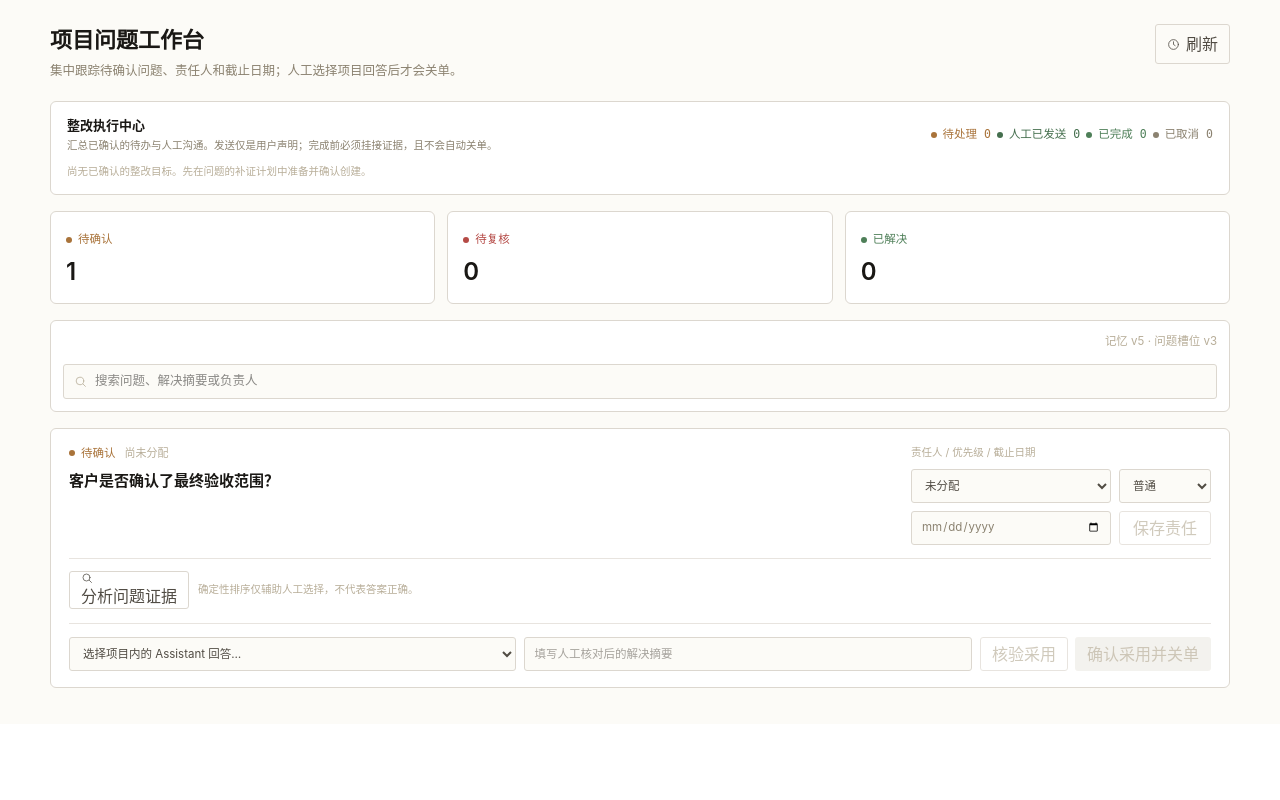
Test: project question workbench › requires a frozen answer-adoption review before resolving
Expected: the heading "客户是否确认了最终验收范围？" is shown, [69,471,279,490]
Expected: the button "确认采用并关单" is disabled, [1075,636,1211,670]
Select "[验收讨论] 客户已经书面确认最终验收范围。" in the dropdown named "选择解决问题的回答" at (293, 654), box [69,636,516,670]
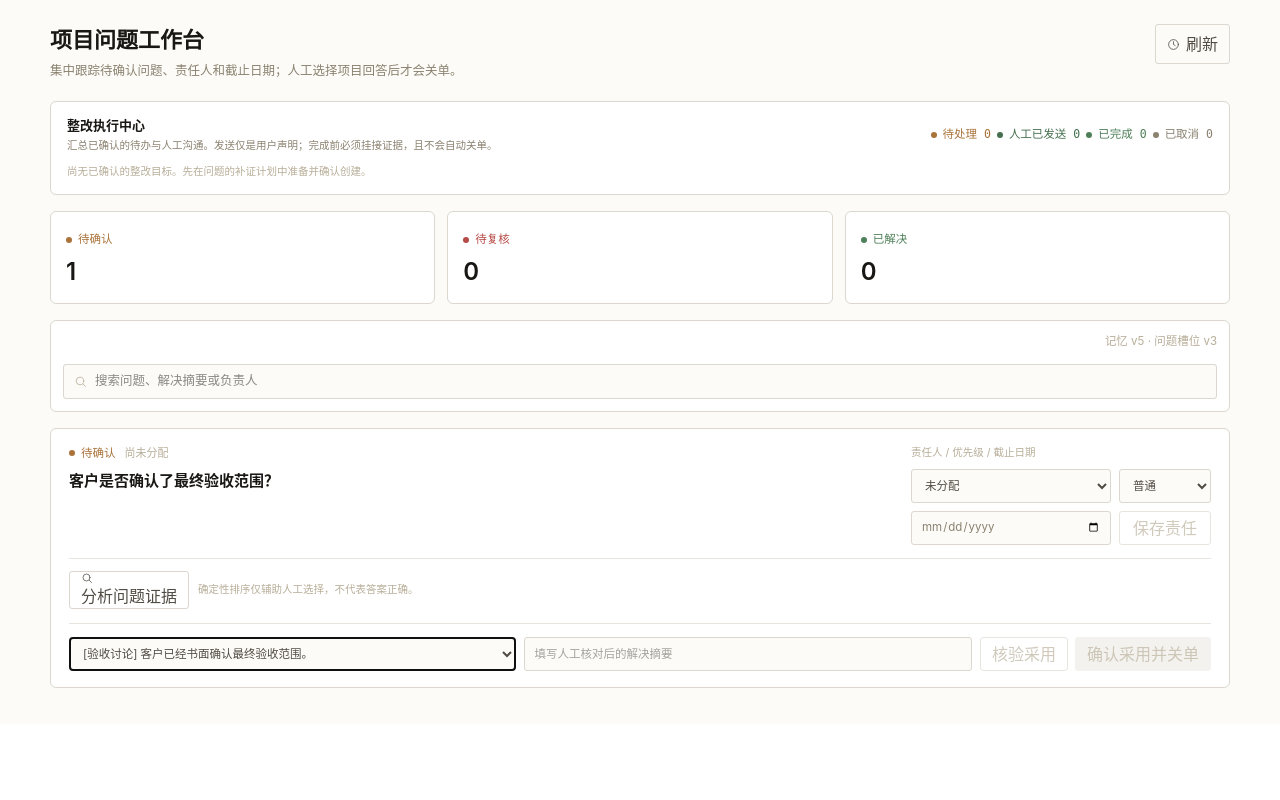
Type "书面确认已归档。" into the field labelled "解决摘要" at (748, 654), box [524,636,972,670]
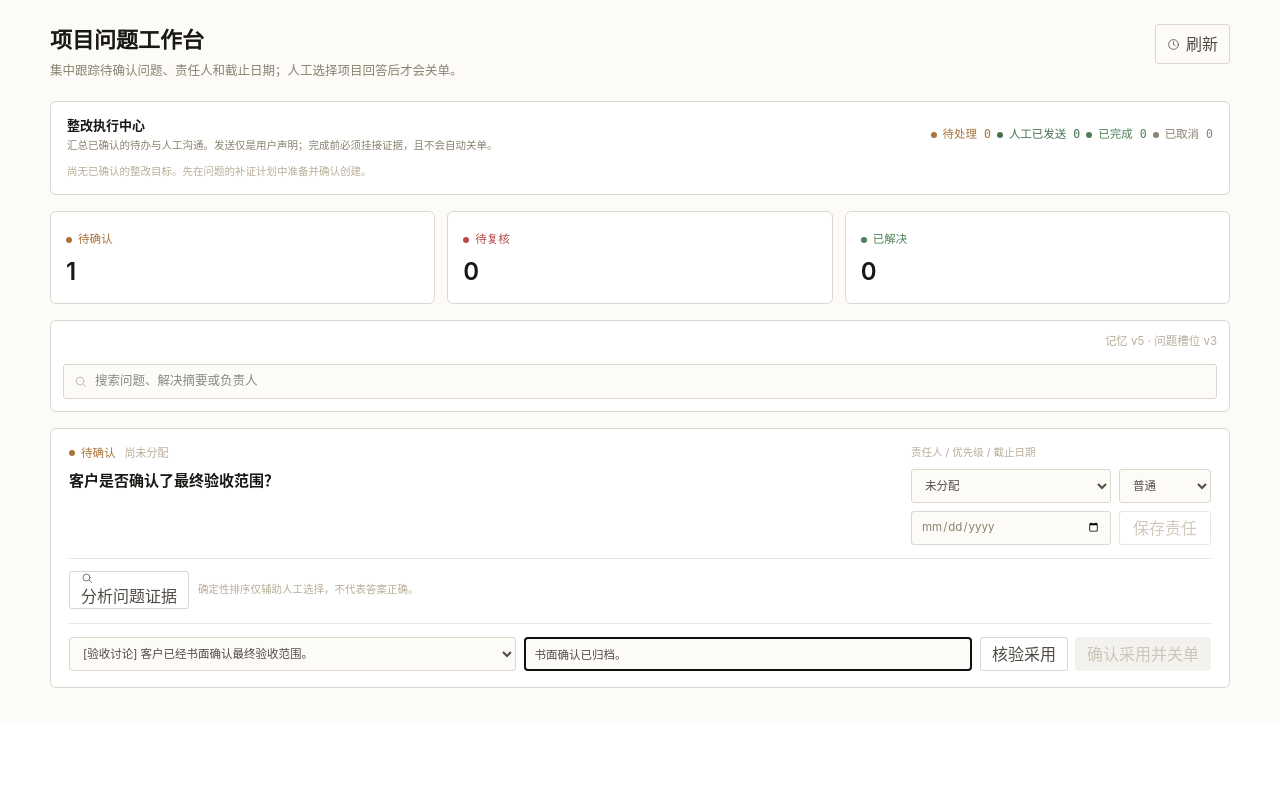
Click the button "核验采用" at (1024, 654), box [980,636,1068,670]
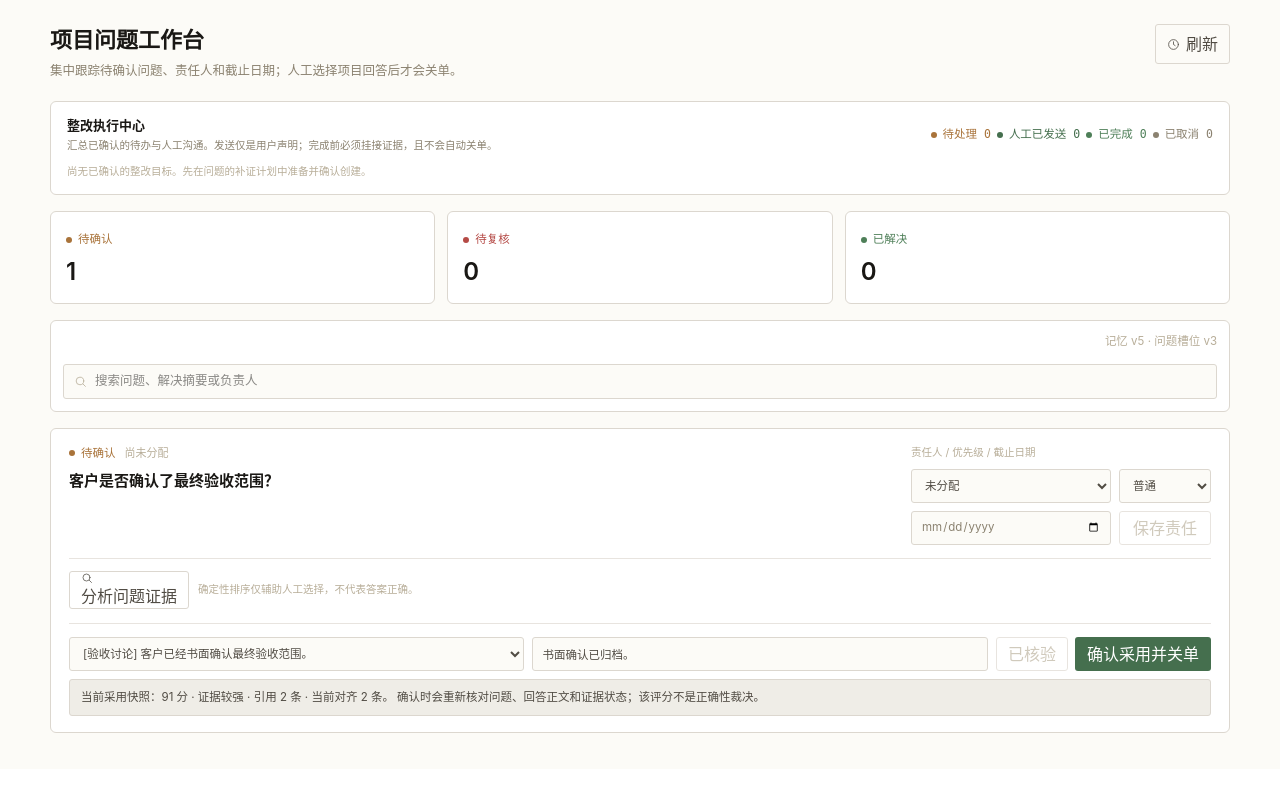
Result: the text named "回答采用核验" is shown at [69,678,1211,716]
Result: the button "确认采用并关单" is enabled
Click the button "确认采用并关单" at (1143, 654), box [1075,636,1211,670]
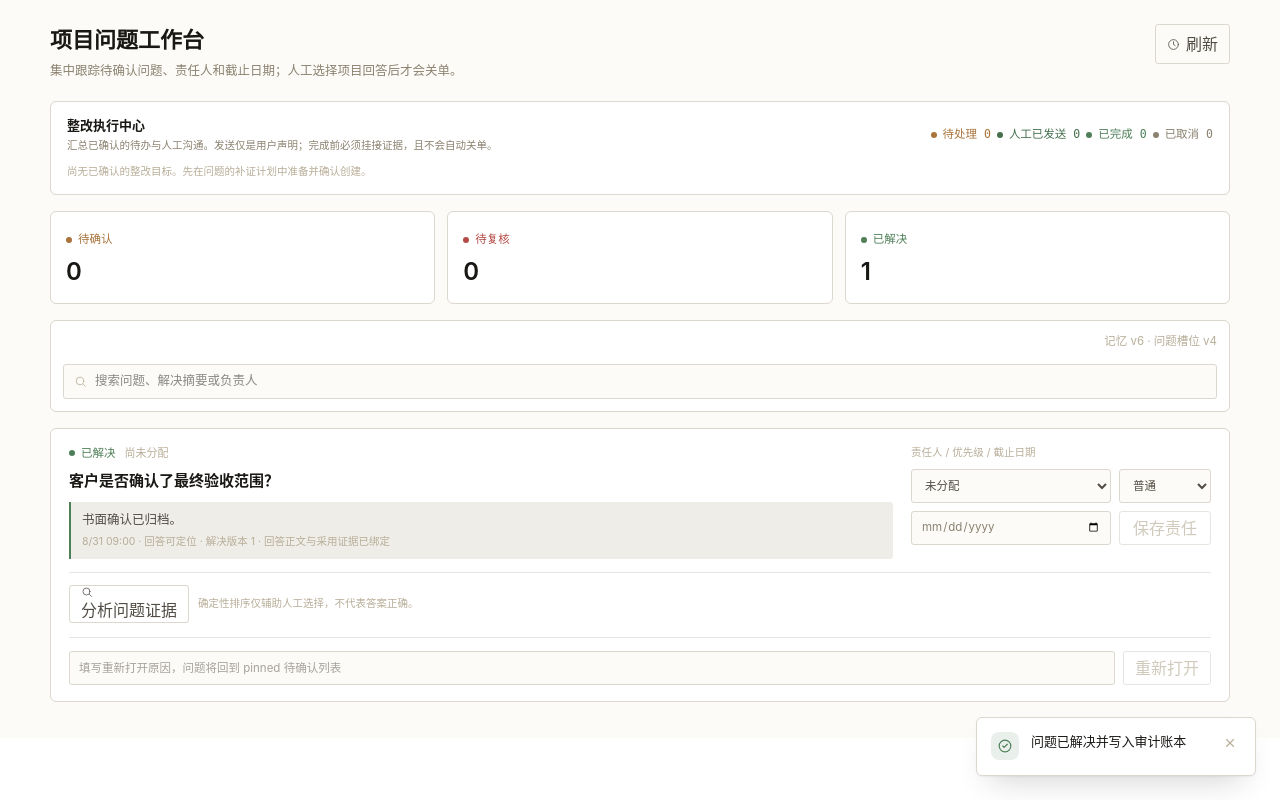
Result: the text "书面确认已归档。" is shown at [82,512,182,527]
